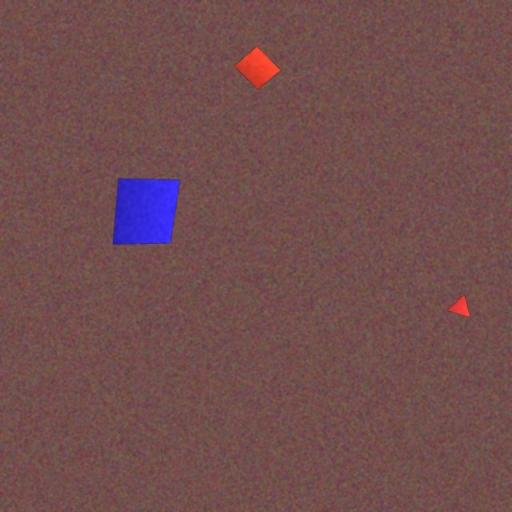BLUE_SQUARE: (112, 178, 181, 246)
RED_SQUARE: (234, 46, 282, 90)
